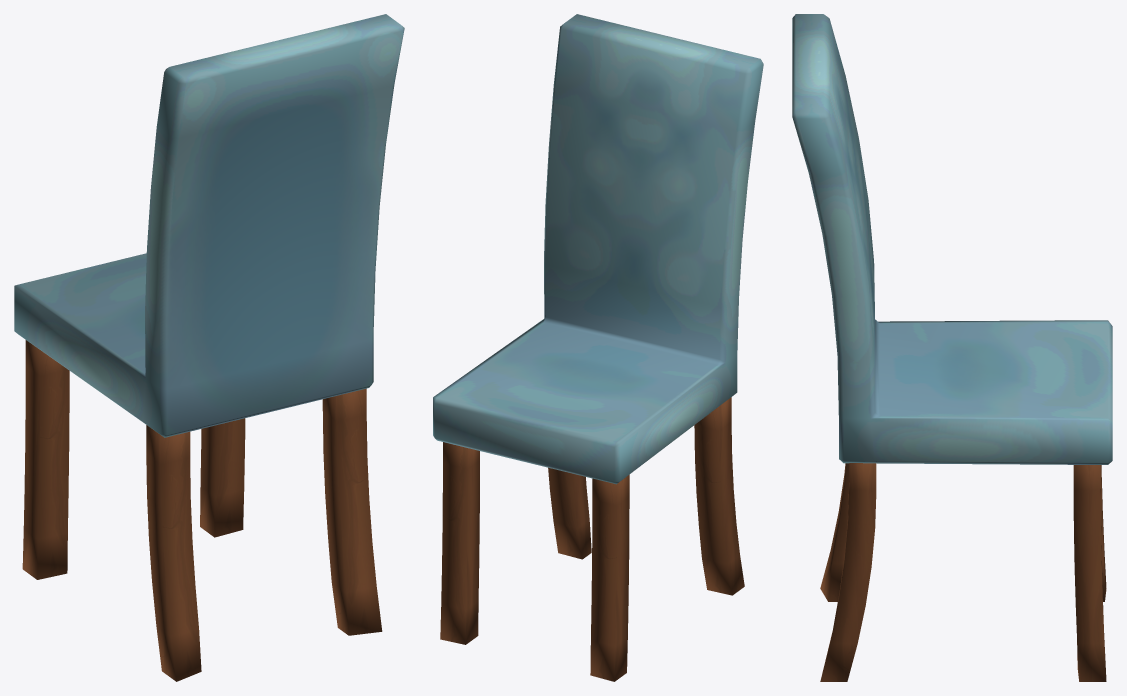
The model's file is chair.fbx.
3 renders of one model, left to right at view 1: azimuth 30°, elevation 25°; view 2: azimuth 150°, elevation 25°; view 3: azimuth 270°, elevation 25°, orthographic. The views are drawn at different scales.
Visible parts, largest first — view 1: Cube.004; view 2: Cube.004; view 3: Cube.004.
Part boxes in pixels (x1,y1,x2,y2): Cube.004: [14, 14, 404, 681]; Cube.004: [433, 14, 763, 681]; Cube.004: [792, 14, 1112, 681].
Bounding box in the file's own units: 78.27 × 204 × 103.
